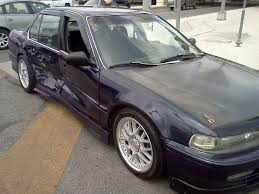Dent: (26, 45, 79, 103)
